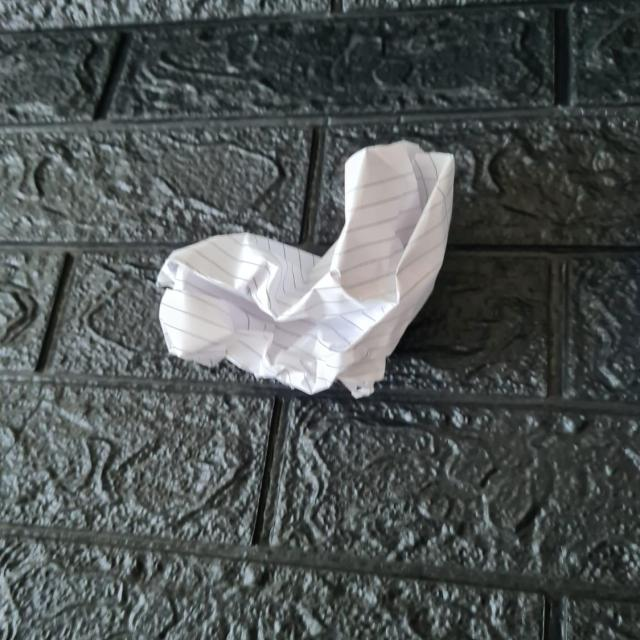kertas: (140, 144, 467, 382)
